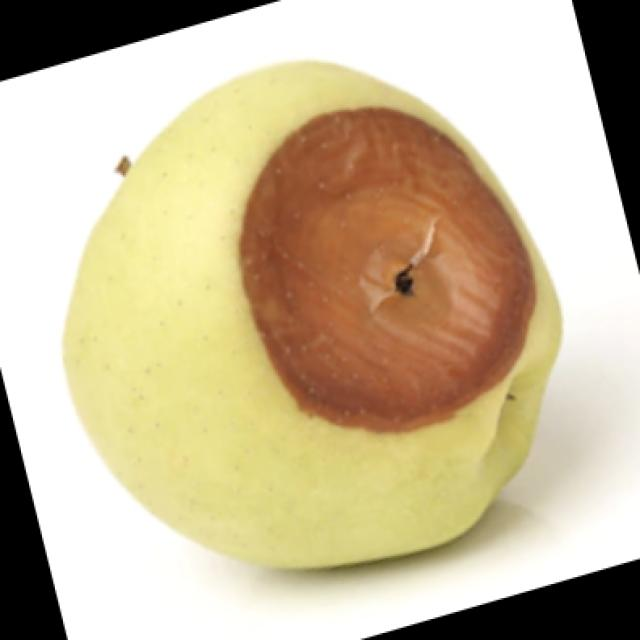organik: (98, 9, 578, 601)
